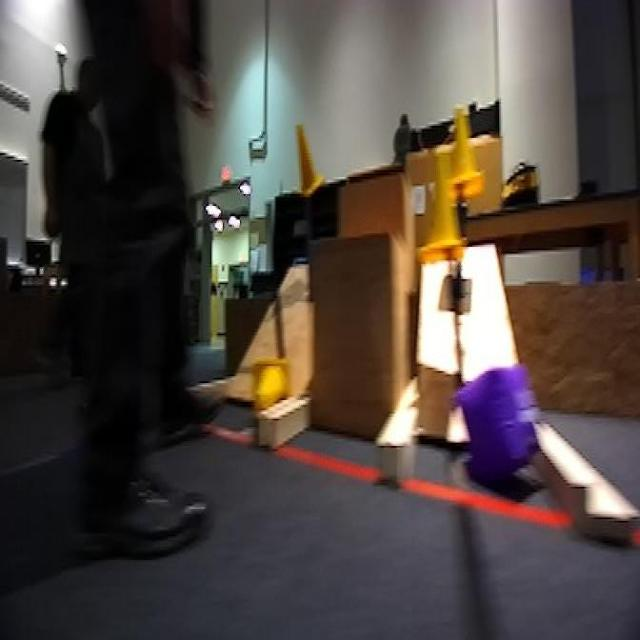frc_cone: (418, 148, 466, 274), (443, 102, 483, 199), (292, 116, 328, 194), (248, 362, 292, 408)
frc_cube: (459, 359, 543, 501)
